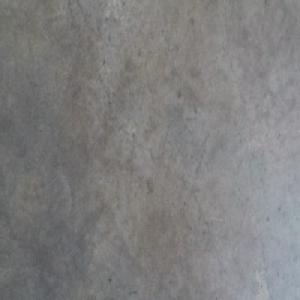Pliers: (187, 292, 198, 299)
